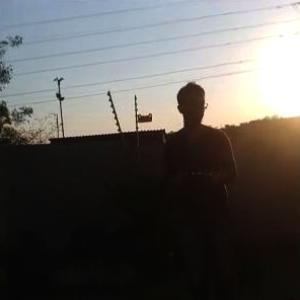follow: (162, 76, 245, 299)
